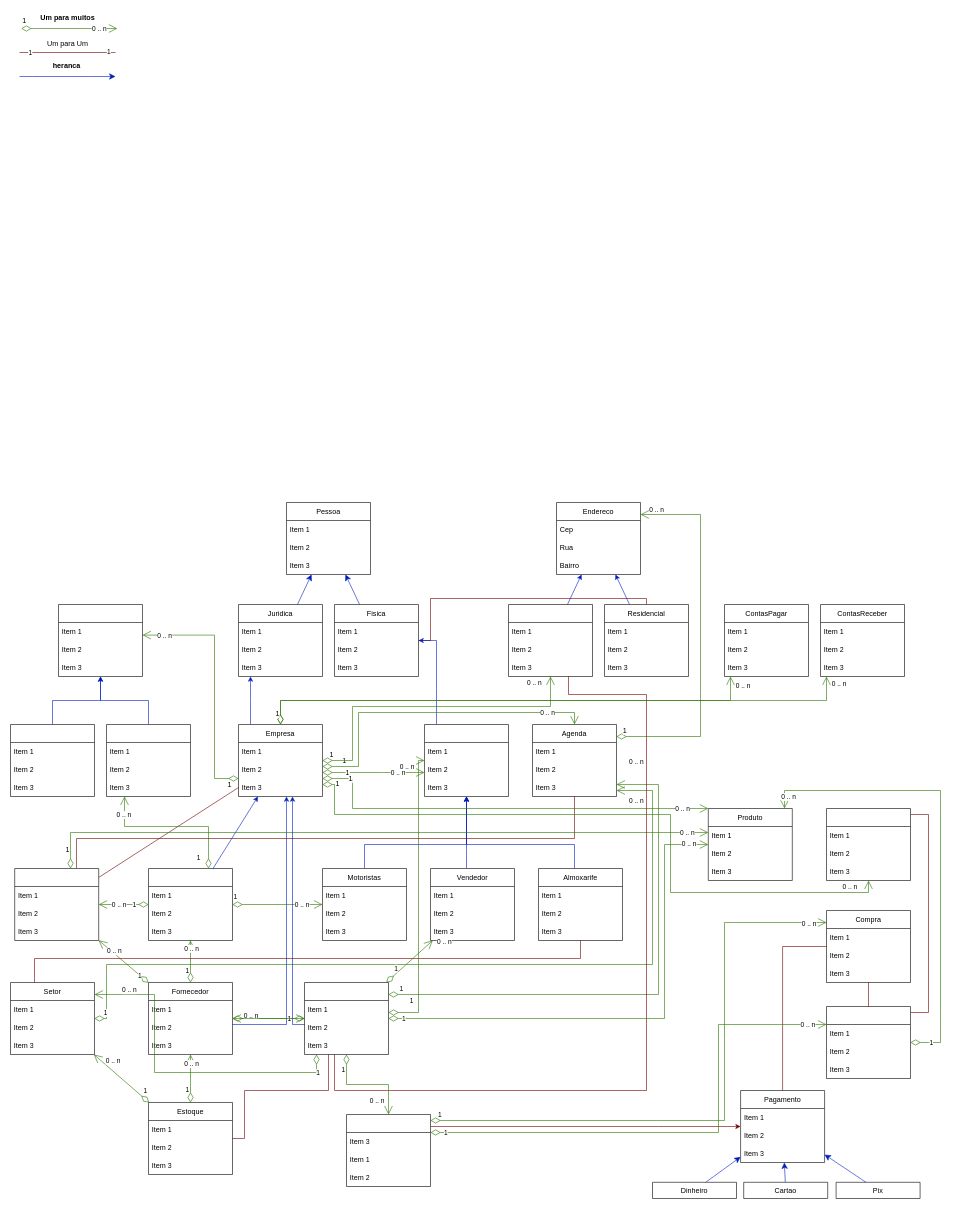
The diagram is 961 pixels wide and 1214 high, and some of its shapes have lost their labels. The shapes that lost their labels are listed below. From the top down, each one's box as (x1, y1, x2, y2) in pixels, then its label:
(58, 604, 142, 676): Veiculos
(508, 604, 592, 676): Comercial
(10, 724, 94, 796): VTransportePessoal
(106, 724, 190, 796): VEntregas
(424, 724, 508, 796): Funcionarios
(826, 808, 910, 880): Vendas
(14, 868, 99, 940): Pedidos
(148, 868, 232, 940): Transportadora
(304, 982, 388, 1054): Loja
(826, 1006, 910, 1078): Lista
(346, 1114, 430, 1186): Cliente
